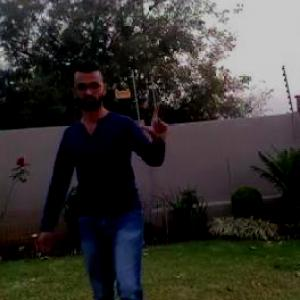land_hand: (133, 98, 173, 140)
